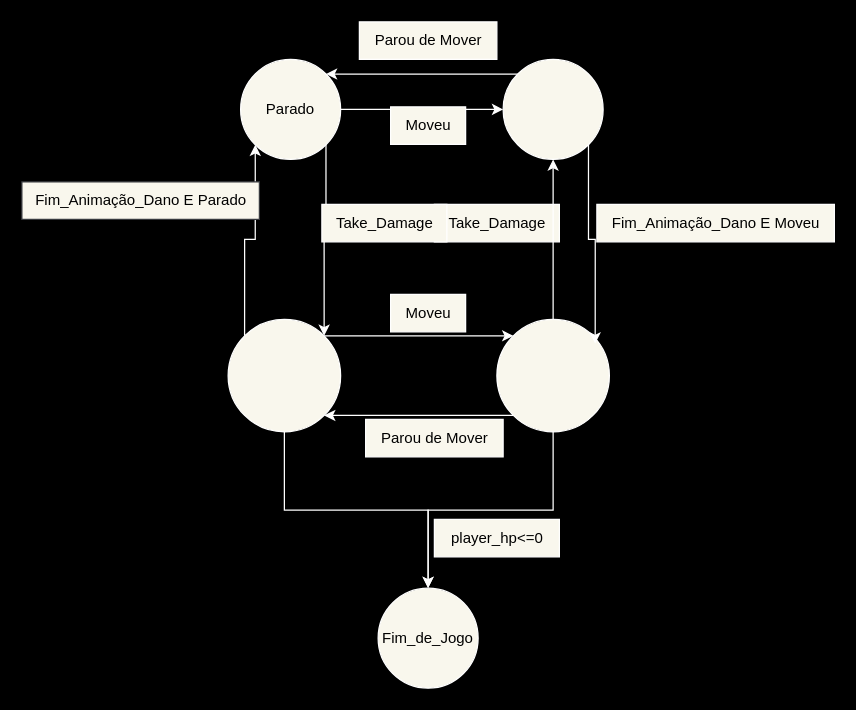
Image size: 856x710. Some labels were removed from this diagram. Here are the shapes that lost their labels. From the top down, the box of each, then its label:
(502, 58, 603, 159): Andando
(227, 318, 341, 432): Sofrendo_Dano E Parado
(496, 318, 609, 432): Sofrendo_Dano E Andando
